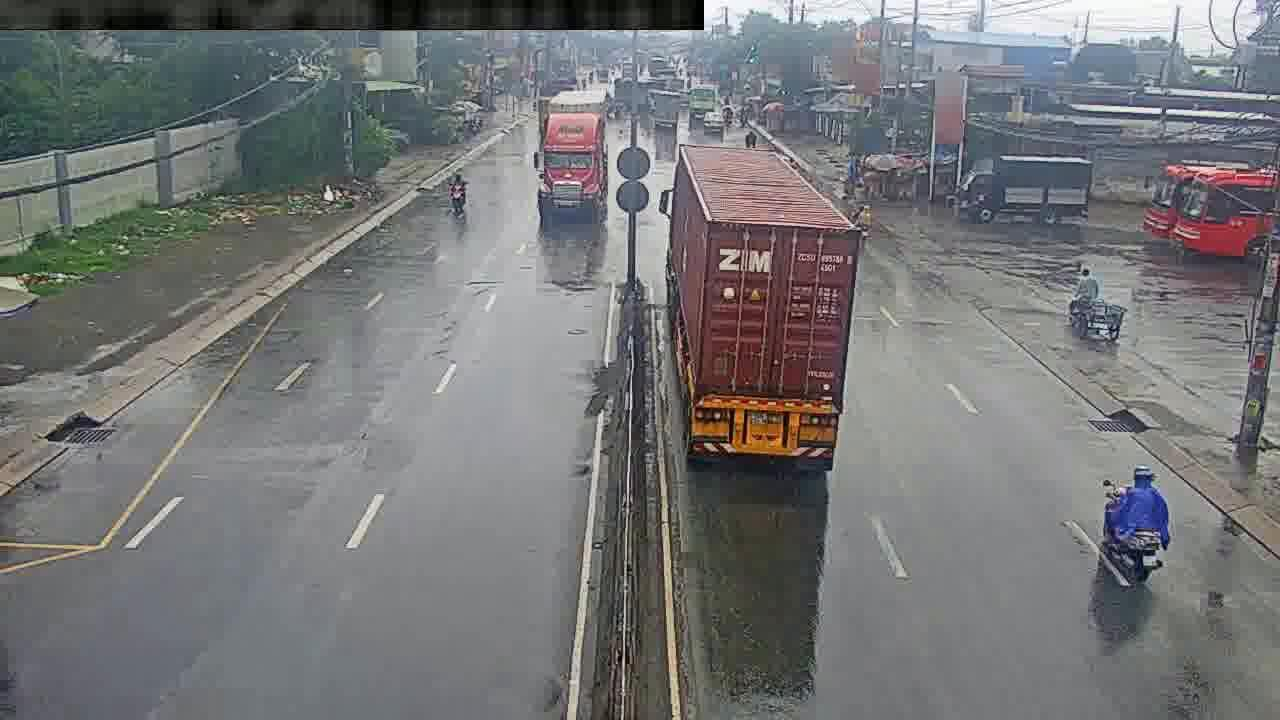container: (659, 134, 863, 463), (532, 93, 608, 218)
motorbike: (1106, 469, 1165, 593), (446, 166, 466, 218), (854, 204, 873, 242)
